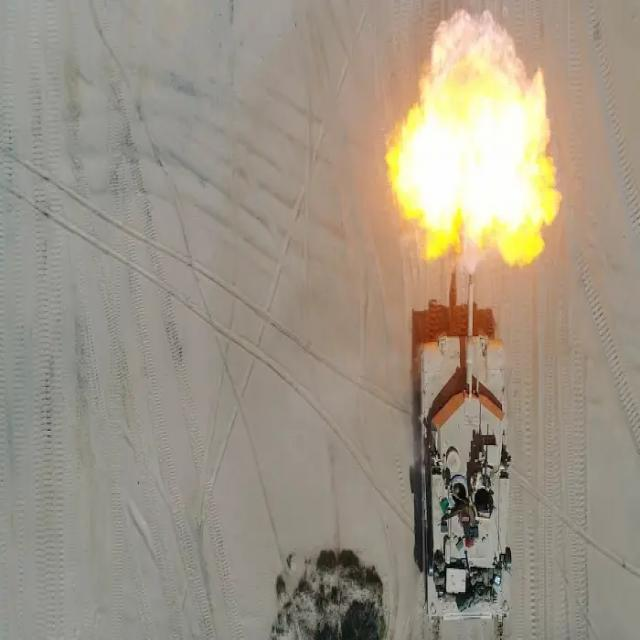tank: (406, 270, 516, 636)
